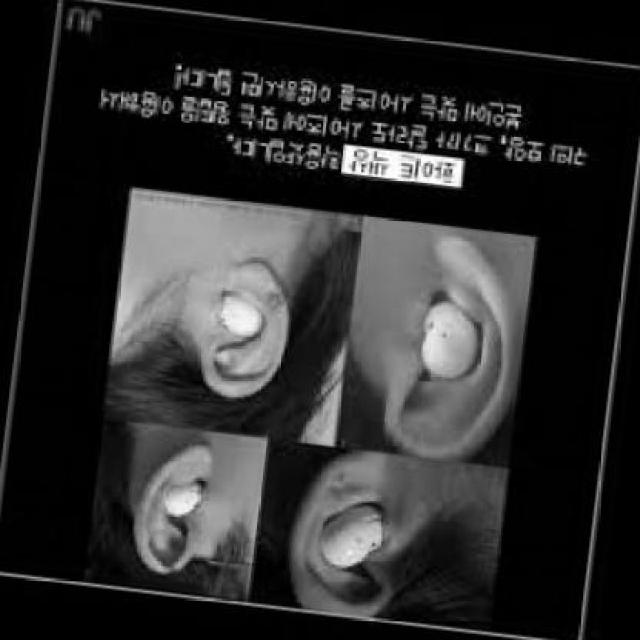earphone: (402, 284, 487, 381), (308, 487, 384, 583), (147, 462, 219, 520), (207, 279, 272, 342)
